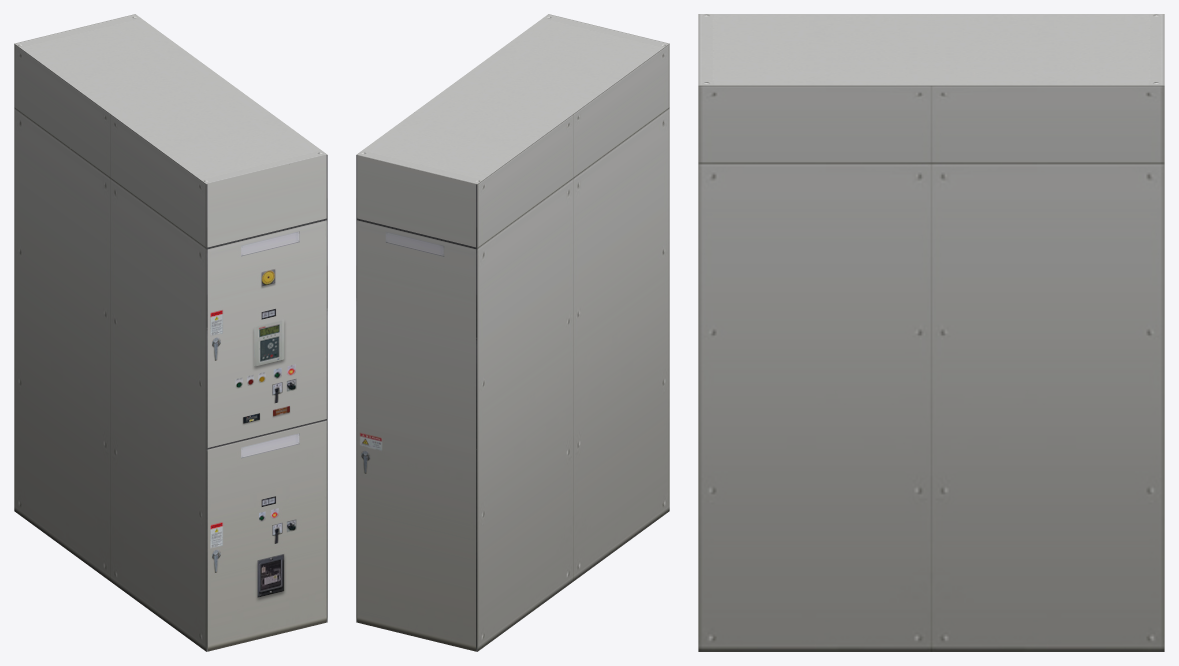
3 views of the same model, side by side, from view 1: azimuth 30°, elevation 25°; view 2: azimuth 150°, elevation 25°; view 3: azimuth 270°, elevation 25° (orthographic). The views are drawn at different scales.
Visible parts, largest first — view 1: LV-F1-U; view 2: LV-F1-U; view 3: LV-F1-U.
Part boxes in pixels (x1,y1,x2,y2): LV-F1-U: (14,14,327,651); LV-F1-U: (356,14,669,651); LV-F1-U: (698,14,1164,651).
Size of the model in its own units: 0.8 by 2.95 by 2.2.
1 material, 1 textured.
